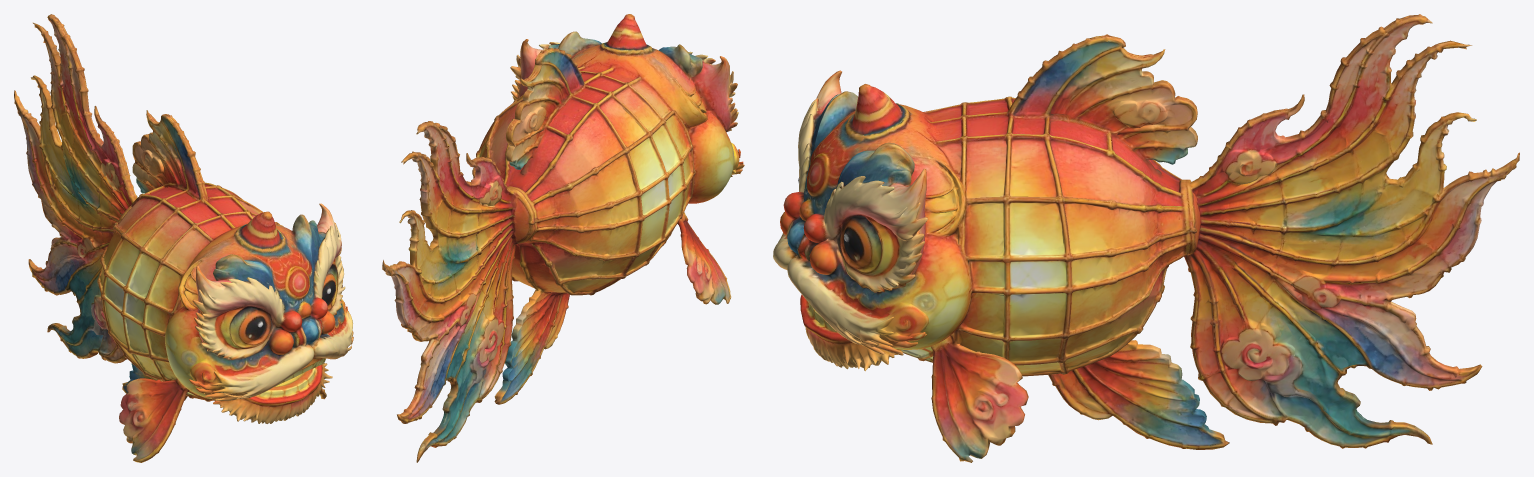
Rendered from 浮金鱼灯50000.glb.
3 views of the same model, side by side, from view 1: azimuth 30°, elevation 25°; view 2: azimuth 150°, elevation 25°; view 3: azimuth 270°, elevation 25° (orthographic). The views are drawn at different scales.
Parts seen in each view (by area): view 1: tripo_node_3e88b77a-ff76-42e6-9097-bed28085a0b2; view 2: tripo_node_3e88b77a-ff76-42e6-9097-bed28085a0b2; view 3: tripo_node_3e88b77a-ff76-42e6-9097-bed28085a0b2.
Part boxes in pixels (x1,y1,x2,y2): tripo_node_3e88b77a-ff76-42e6-9097-bed28085a0b2: (14, 14, 353, 462); tripo_node_3e88b77a-ff76-42e6-9097-bed28085a0b2: (382, 14, 744, 462); tripo_node_3e88b77a-ff76-42e6-9097-bed28085a0b2: (773, 14, 1519, 462).
Size of the model in its own units: 0.4407 by 0.6411 by 1.
Materials: 1 (1 with a texture image).
